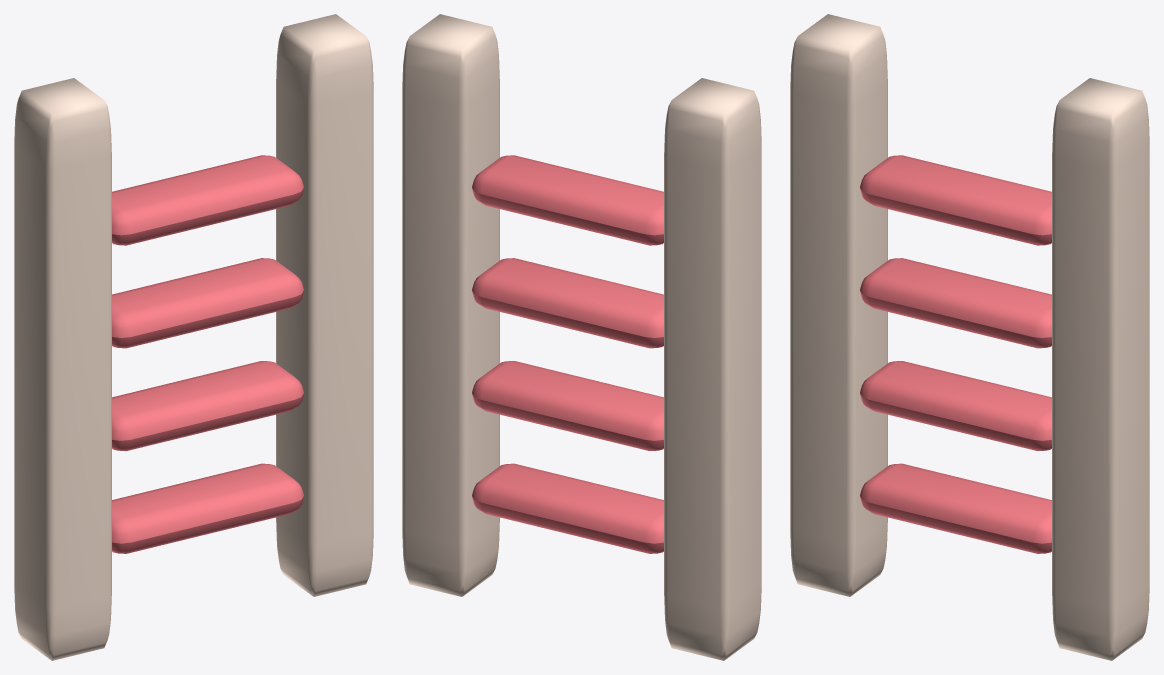
Rendered from Props_Conveyor_Pink_Holder_03.fbx.
3 views of the same model, side by side, from view 1: azimuth 30°, elevation 25°; view 2: azimuth 150°, elevation 25°; view 3: azimuth 330°, elevation 25° (orthographic).
Parts seen in each view (by area): view 1: Props_Conveyor_Pink_Holder_03; view 2: Props_Conveyor_Pink_Holder_03; view 3: Props_Conveyor_Pink_Holder_03.
Part boxes in pixels (<box>): Props_Conveyor_Pink_Holder_03: <box>14,14,373,660</box>; Props_Conveyor_Pink_Holder_03: <box>402,14,761,660</box>; Props_Conveyor_Pink_Holder_03: <box>790,14,1149,660</box>.
Size of the model in its own units: 50 by 80 by 10.
